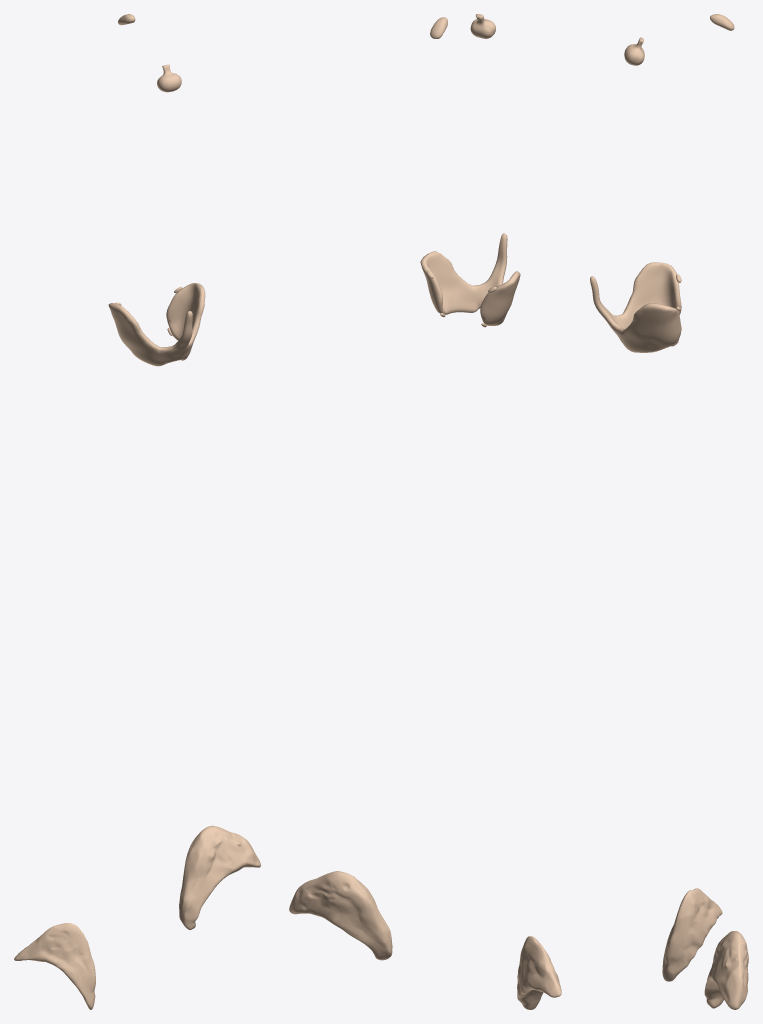
3 views of the same model, side by side, from view 1: azimuth 30°, elevation 25°; view 2: azimuth 150°, elevation 25°; view 3: azimuth 270°, elevation 25° (orthographic). The views are drawn at different scales.
Visible parts, largest first — view 1: Endo_Suprarenal_Gland_Left, Endo_Thyroid_Gland, Endo_Suprarenal_Gland_Right; view 2: Endo_Suprarenal_Gland_Left, Endo_Thyroid_Gland, Endo_Suprarenal_Gland_Right; view 3: Endo_Thyroid_Gland, Endo_Suprarenal_Gland_Right, Endo_Suprarenal_Gland_Left.
Boxes of the visible parts, <box> form: Endo_Suprarenal_Gland_Left: <box>179,825,260,929</box>; Endo_Thyroid_Gland: <box>108,283,205,366</box>; Endo_Suprarenal_Gland_Right: <box>14,923,95,1009</box>; Endo_Suprarenal_Gland_Left: <box>289,871,392,960</box>; Endo_Thyroid_Gland: <box>420,233,520,325</box>; Endo_Suprarenal_Gland_Right: <box>517,936,561,1009</box>; Endo_Thyroid_Gland: <box>590,262,681,352</box>; Endo_Suprarenal_Gland_Right: <box>662,888,722,981</box>; Endo_Suprarenal_Gland_Left: <box>704,931,748,1009</box>.
Bounding box in the file's own units: 0.138 × 0.4994 × 0.072.
